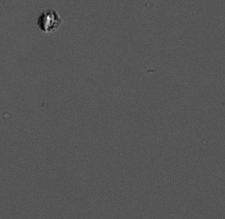Living Cell: (38, 10, 61, 31)
